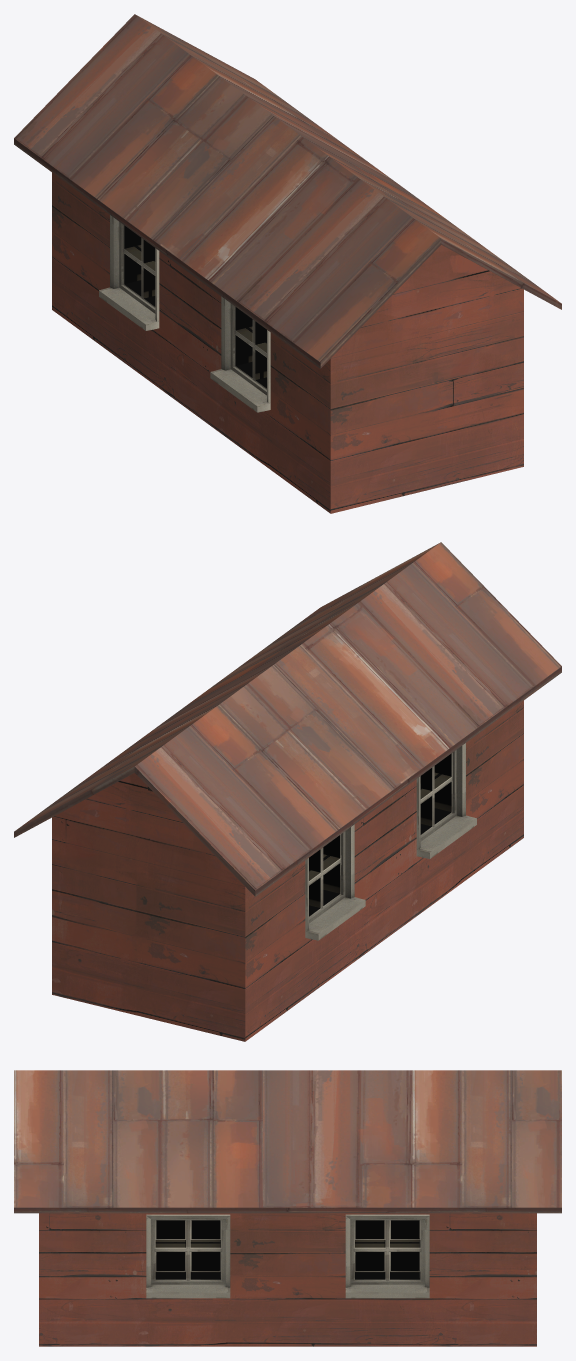
The model's file is farm_loft.dae.
3 views of the same model, one above another, from view 1: azimuth 30°, elevation 25°; view 2: azimuth 150°, elevation 25°; view 3: azimuth 270°, elevation 25° (orthographic). The views are drawn at different scales.
Parts seen in each view (by area): view 1: barn_loft001a; view 2: barn_loft001a; view 3: barn_loft001a.
Boxes of the visible parts, <box> form: barn_loft001a: <box>14,14,561,513</box>; barn_loft001a: <box>14,542,561,1041</box>; barn_loft001a: <box>14,1070,561,1346</box>.
Size of the model in its own units: 5.33 by 11.73 by 5.53.
Materials: 3 (3 with a texture image).
